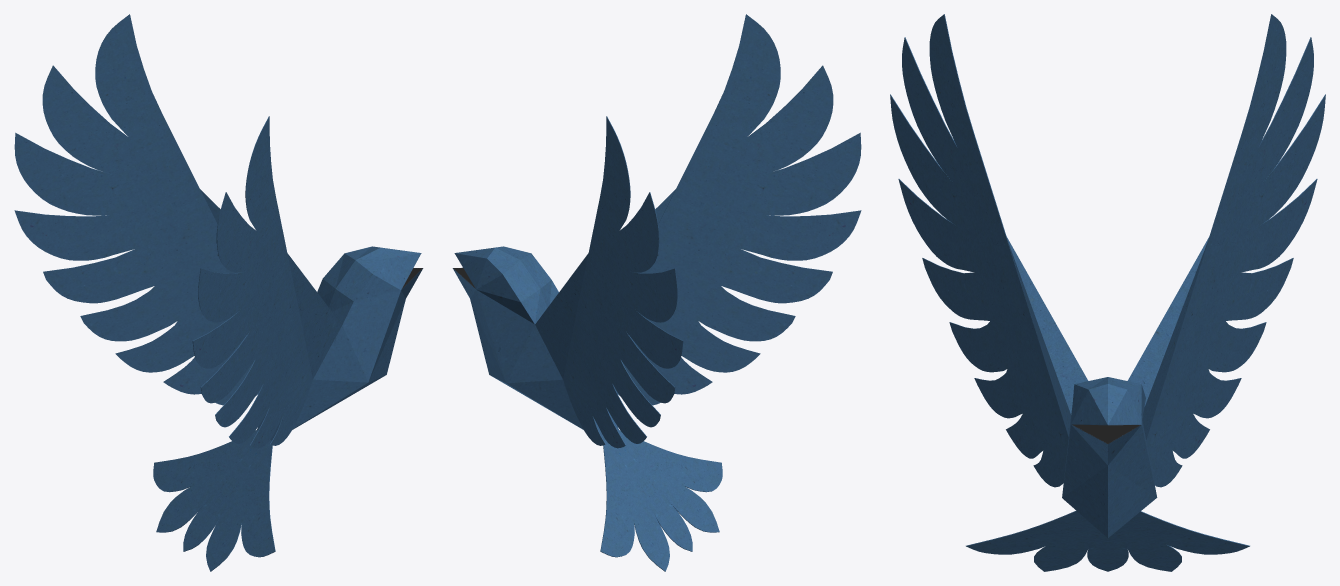
File: bluebird_origami.glb
3 renders of one model, left to right at view 1: azimuth 30°, elevation 25°; view 2: azimuth 150°, elevation 25°; view 3: azimuth 270°, elevation 25°, orthographic. The views are drawn at different scales.
Visible parts, largest first — view 1: Vert, Vert.002, Vert.001; view 2: Vert, Vert.002, Vert.001; view 3: Vert, Vert.002, Vert.001.
Boxes of the visible parts, x1,y1,x2,y2 form: Vert: (14, 14, 312, 448); Vert.002: (200, 189, 423, 440); Vert.001: (153, 430, 275, 571); Vert: (563, 14, 861, 448); Vert.002: (452, 189, 675, 440); Vert.001: (600, 430, 722, 571); Vert: (890, 14, 1325, 487); Vert.002: (1005, 235, 1209, 537); Vert.001: (966, 510, 1249, 571).
Bounding box in the file's own units: 0.2067 × 0.2982 × 0.2077.
Materials: 1 (1 with a texture image).
